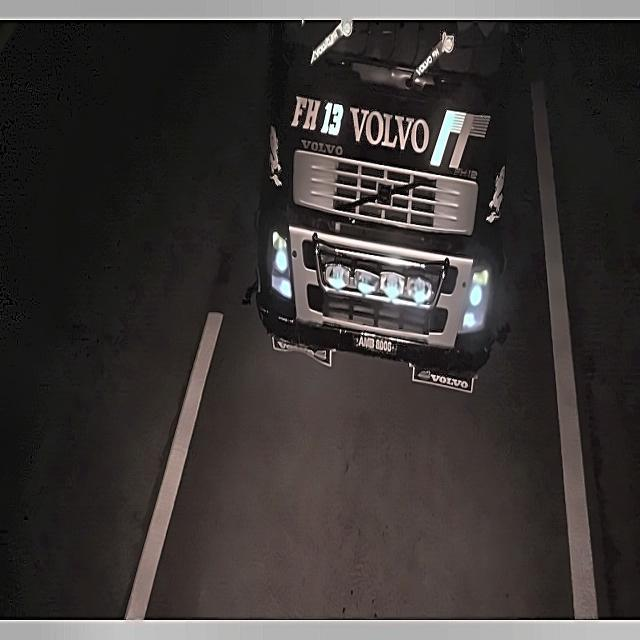car: (349, 331, 401, 359)
